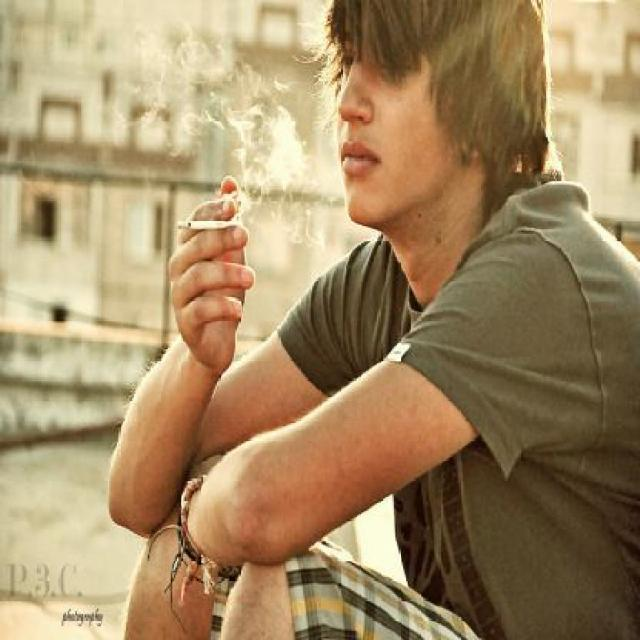cigarette: (168, 206, 246, 245)
